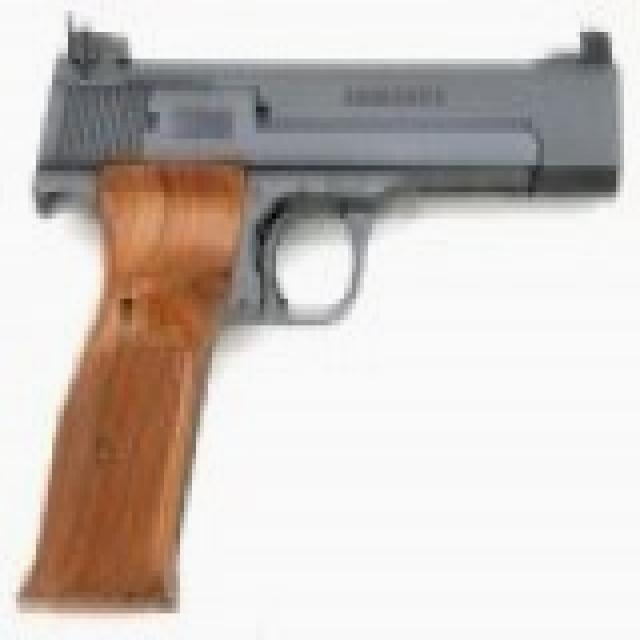pistol: (28, 16, 624, 619)
